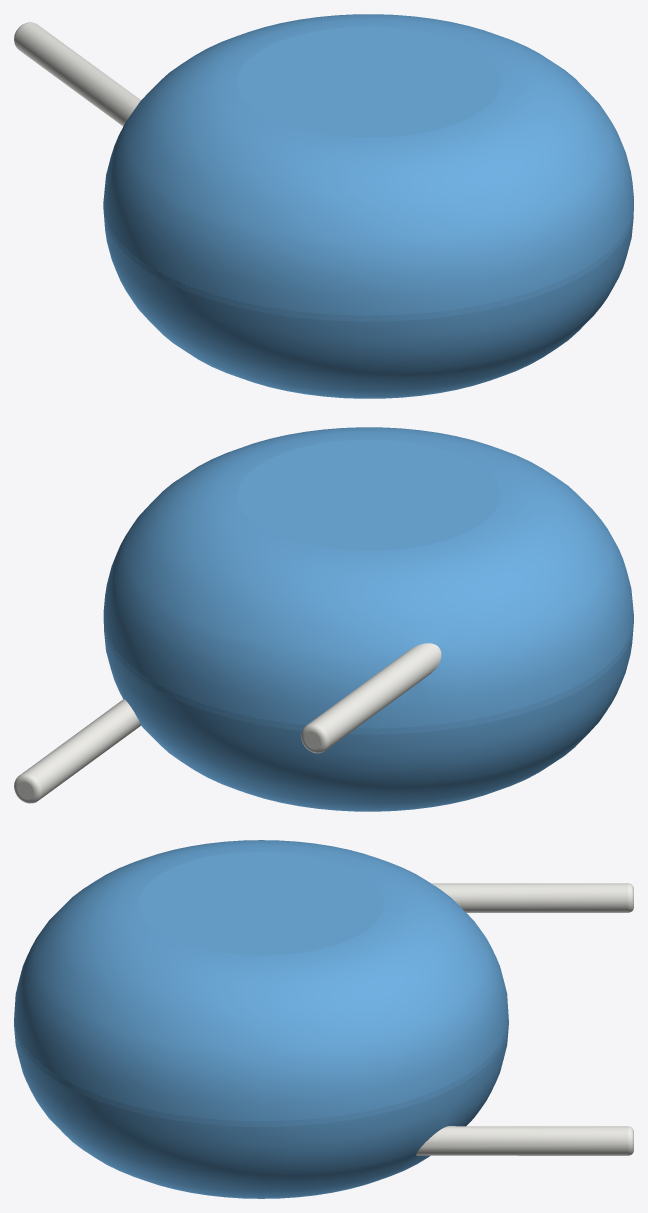
Rendered from RV_Disc_D12mm_W6.2mm_P7.5mm.glb.
The picture shows the model from 3 angles, top to bottom: view 1: azimuth 30°, elevation 25°; view 2: azimuth 150°, elevation 25°; view 3: azimuth 270°, elevation 25°; orthographic projection. The views are drawn at different scales.
Parts seen in each view (by area): view 1: Shape_IndexedFaceSet.001, Shape_IndexedFaceSet.002, Shape_IndexedFaceSet.003, Shape_IndexedFaceSet.004, Shape_IndexedFaceSet; view 2: Shape_IndexedFaceSet.001, Shape_IndexedFaceSet.002, Shape_IndexedFaceSet.003, Shape_IndexedFaceSet.004, Shape_IndexedFaceSet.006, Shape_IndexedFaceSet; view 3: Shape_IndexedFaceSet.001, Shape_IndexedFaceSet.002, Shape_IndexedFaceSet.003, Shape_IndexedFaceSet.006, Shape_IndexedFaceSet.004, Shape_IndexedFaceSet.
Boxes of the visible parts, x1,y1,x2,y2 form: Shape_IndexedFaceSet.001: (103, 14, 633, 315); Shape_IndexedFaceSet.002: (103, 137, 633, 398); Shape_IndexedFaceSet.003: (237, 26, 500, 137); Shape_IndexedFaceSet.004: (15, 22, 140, 126); Shape_IndexedFaceSet: (103, 203, 633, 321); Shape_IndexedFaceSet.001: (103, 427, 633, 728); Shape_IndexedFaceSet.002: (104, 623, 633, 811); Shape_IndexedFaceSet.003: (237, 439, 499, 550); Shape_IndexedFaceSet.004: (309, 643, 441, 749); Shape_IndexedFaceSet.006: (21, 699, 140, 799); Shape_IndexedFaceSet: (103, 617, 633, 734); Shape_IndexedFaceSet.001: (14, 840, 508, 1121); Shape_IndexedFaceSet.002: (14, 1026, 508, 1198); Shape_IndexedFaceSet.003: (139, 852, 383, 955); Shape_IndexedFaceSet.006: (416, 1126, 627, 1155); Shape_IndexedFaceSet.004: (431, 883, 627, 912); Shape_IndexedFaceSet: (14, 1020, 508, 1126).
Size of the model in its own units: 4.72 by 2.44 by 5.92.
